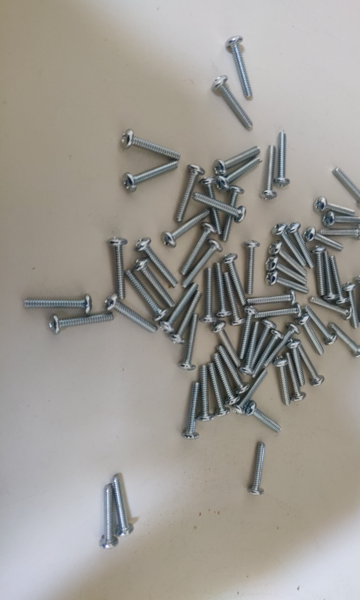longscrew: (209, 78, 254, 130), (163, 203, 211, 246), (132, 260, 175, 308), (175, 225, 217, 274), (107, 299, 158, 339), (184, 240, 227, 287), (136, 238, 178, 286), (124, 274, 166, 322), (162, 282, 201, 332), (119, 130, 185, 159), (173, 166, 206, 223), (225, 39, 255, 99), (123, 156, 180, 187), (172, 291, 204, 345), (193, 193, 248, 223), (250, 319, 277, 375), (218, 346, 248, 396), (212, 355, 242, 405), (43, 313, 113, 334), (104, 238, 128, 299), (215, 143, 260, 175), (219, 157, 264, 189), (95, 489, 118, 550), (267, 327, 301, 368), (23, 293, 92, 313), (252, 331, 282, 377), (234, 371, 264, 417), (110, 476, 132, 537), (274, 225, 305, 268), (181, 384, 205, 439), (222, 185, 245, 242), (270, 243, 306, 279), (203, 176, 223, 238), (226, 254, 247, 312), (266, 258, 308, 286), (213, 324, 241, 366), (289, 223, 314, 269), (245, 403, 282, 434), (225, 271, 244, 329), (181, 316, 201, 371), (245, 291, 297, 312), (334, 165, 360, 207), (297, 342, 323, 384), (199, 367, 218, 424), (308, 307, 337, 344), (252, 303, 304, 323), (274, 358, 294, 410), (332, 322, 360, 359), (286, 352, 306, 403), (309, 298, 355, 320), (305, 228, 345, 253), (243, 322, 261, 377), (237, 306, 255, 360), (211, 367, 230, 417), (243, 239, 259, 296), (250, 438, 266, 495), (264, 275, 309, 295), (274, 132, 290, 188), (260, 146, 276, 202), (302, 318, 324, 358), (291, 342, 308, 390), (203, 269, 217, 323), (214, 263, 228, 317), (344, 282, 359, 332), (334, 255, 349, 305), (321, 252, 336, 302), (312, 246, 327, 296), (311, 200, 356, 215), (320, 224, 360, 239), (325, 211, 360, 227), (355, 276, 360, 326)
